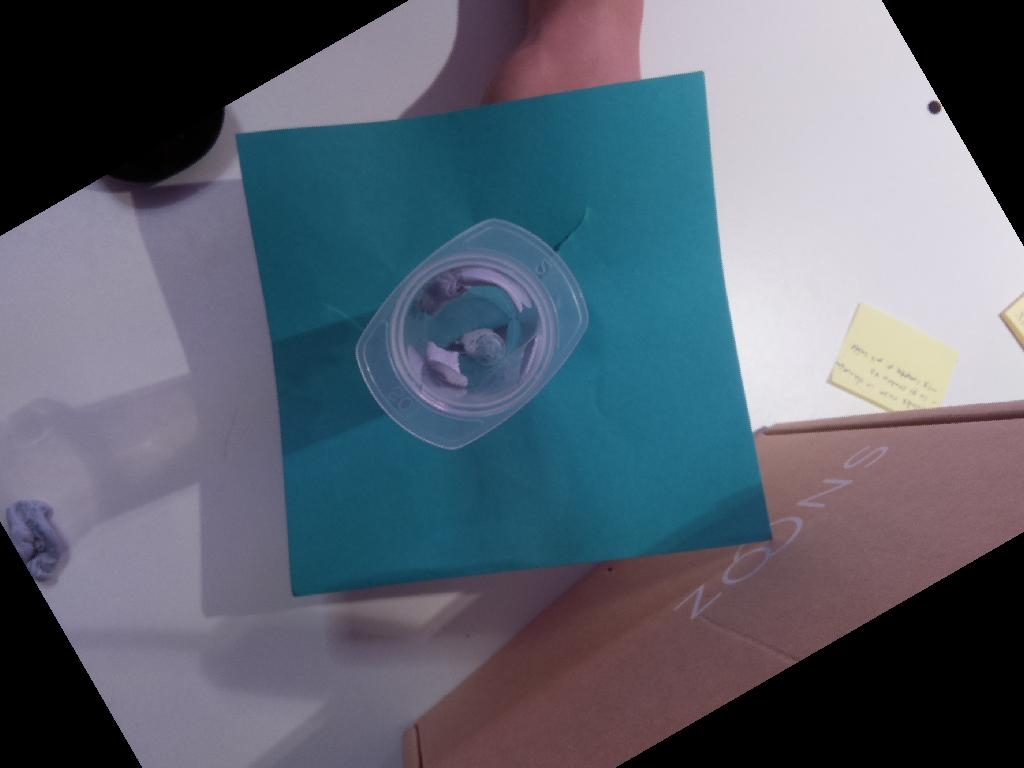dirty: (356, 218, 590, 451)
